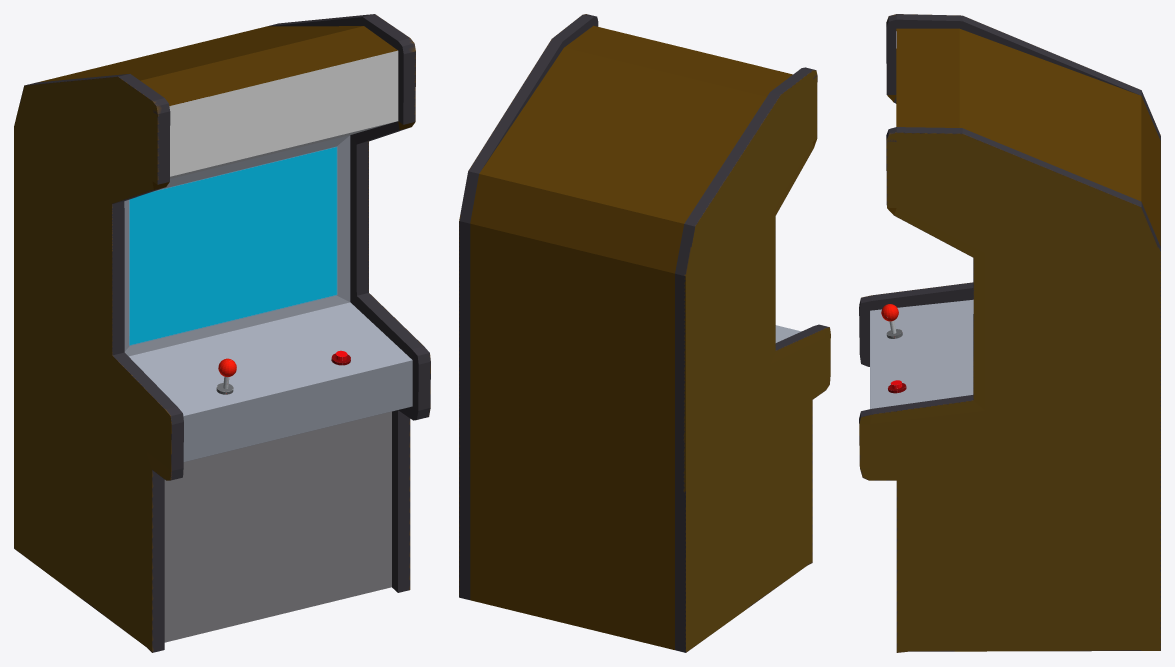
File: arcade-cabinet.gltf
3 views of the same model, side by side, from view 1: azimuth 30°, elevation 25°; view 2: azimuth 150°, elevation 25°; view 3: azimuth 270°, elevation 25° (orthographic). The views are drawn at different scales.
Visible parts, largest first — view 1: Cabinet_Cabinet_Mesh; view 2: Cabinet_Cabinet_Mesh; view 3: Cabinet_Cabinet_Mesh.
Boxes of the visible parts, x1,y1,x2,y2 form: Cabinet_Cabinet_Mesh: (14,14,430,652); Cabinet_Cabinet_Mesh: (459,14,830,652); Cabinet_Cabinet_Mesh: (859,14,1160,652).
Bounding box in the file's own units: 2.24 × 4.55 × 2.39.
3 materials, 3 textured.
